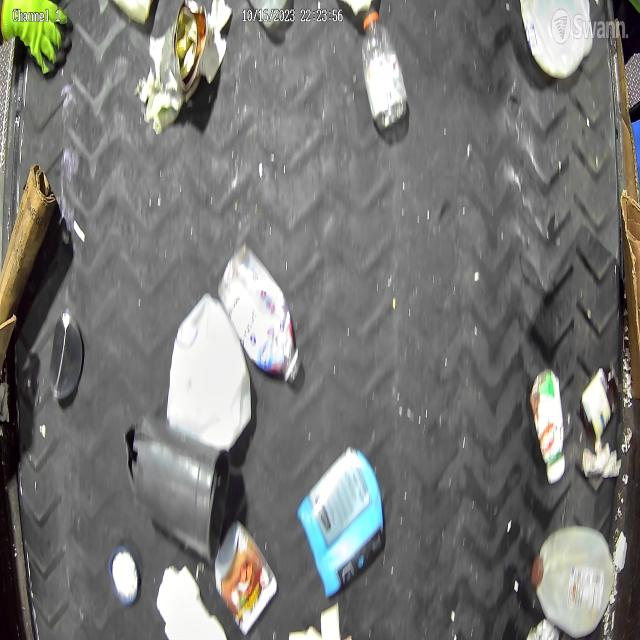can: (213, 518, 277, 635), (159, 0, 208, 95)
milk_jug: (168, 295, 253, 453), (529, 524, 614, 637), (520, 0, 593, 79)
plastic_bottle: (360, 10, 410, 131)
